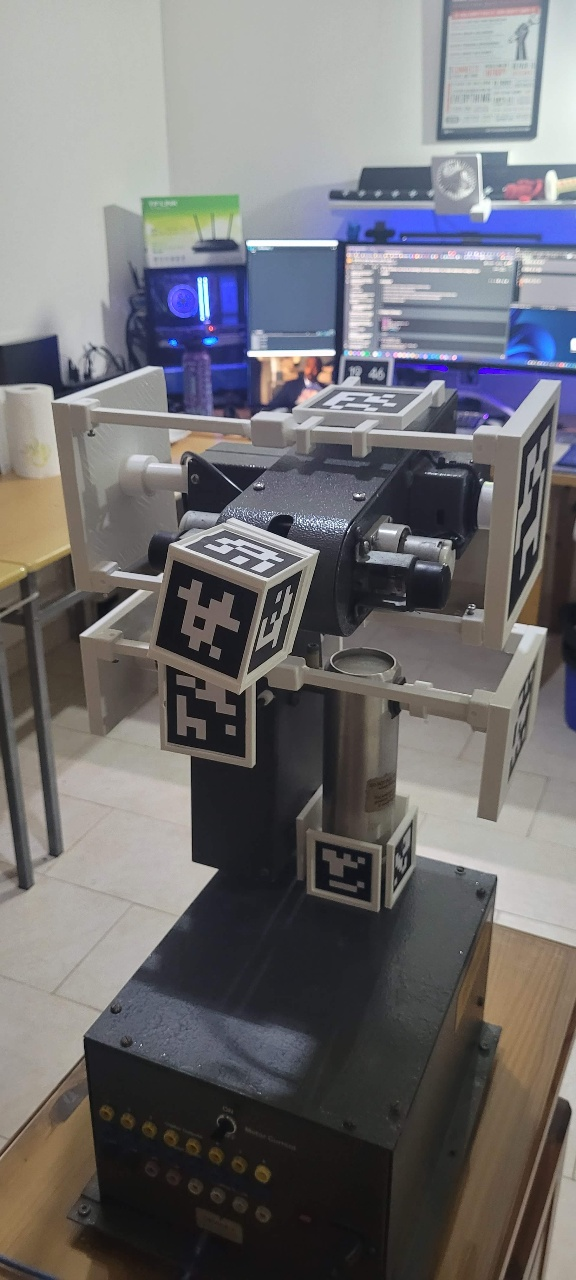Robot: (14, 303, 576, 1078)
